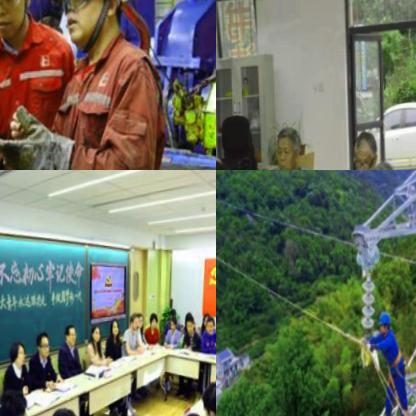head: (271, 124, 303, 170), (348, 131, 378, 170), (0, 386, 27, 416), (199, 384, 216, 416), (8, 339, 25, 369), (33, 330, 49, 360), (64, 323, 76, 347), (183, 315, 194, 339), (128, 314, 139, 334), (134, 311, 144, 332), (90, 324, 100, 344), (147, 312, 157, 331), (109, 321, 119, 340), (204, 318, 213, 338), (166, 315, 176, 333), (200, 312, 209, 329), (166, 307, 175, 321)
helmet: (47, 0, 141, 70), (0, 0, 39, 48), (375, 311, 392, 339)
